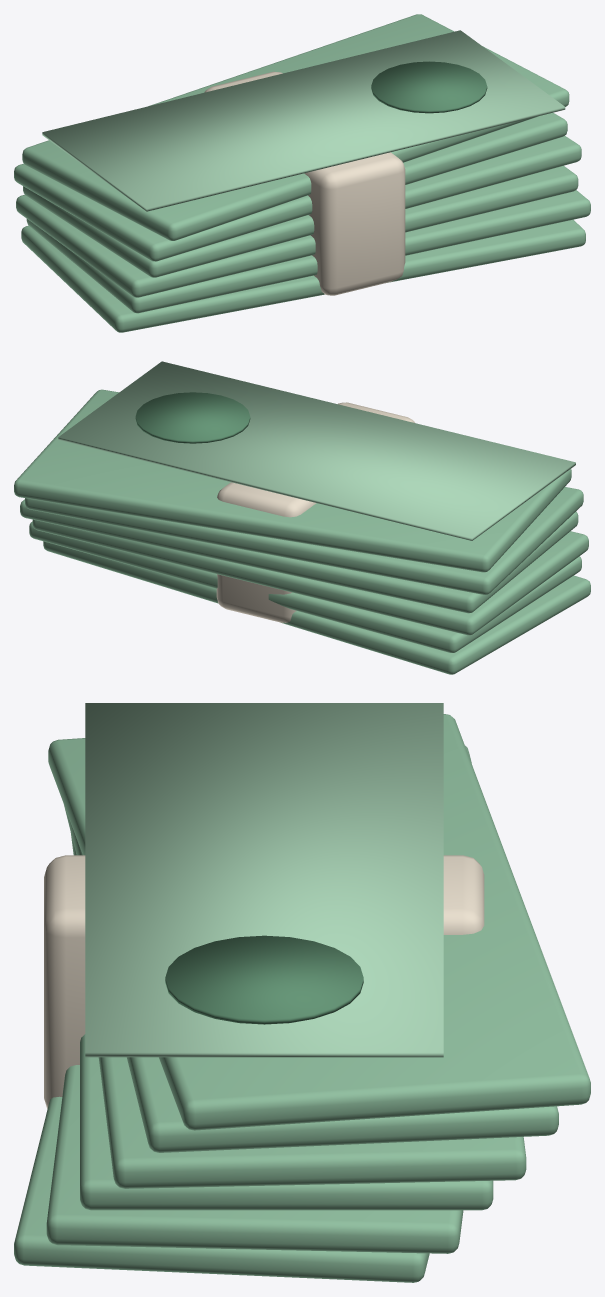
The model's file is casino_cash.fbx.
3 renders of one model, top to bottom at view 1: azimuth 30°, elevation 25°; view 2: azimuth 150°, elevation 25°; view 3: azimuth 270°, elevation 25°, orthographic. The views are drawn at different scales.
Visible parts, largest first — view 1: casino_cash; view 2: casino_cash; view 3: casino_cash.
Part boxes in pixels (x1=…): casino_cash: x1=14, y1=14, x2=590, y2=332; casino_cash: x1=14, y1=361, x2=590, y2=674; casino_cash: x1=14, y1=703, x2=590, y2=1282.
Bounding box in the file's own units: 0.1708 × 0.044 × 0.1047.
